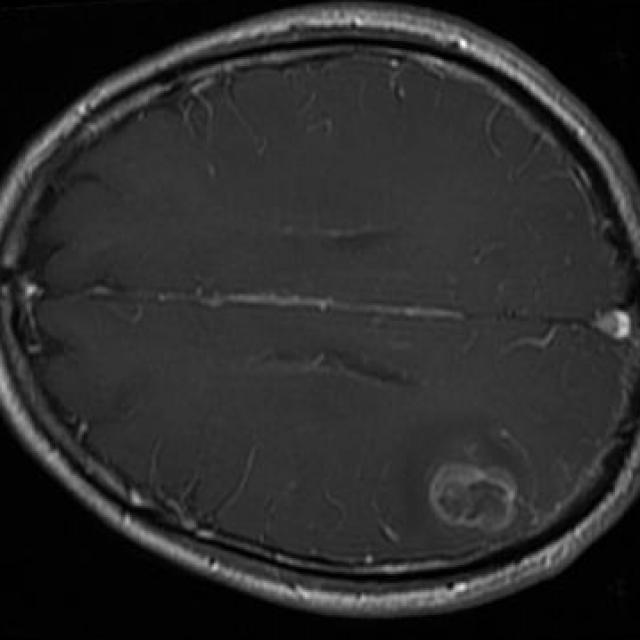glioma: (424, 458, 522, 542)
